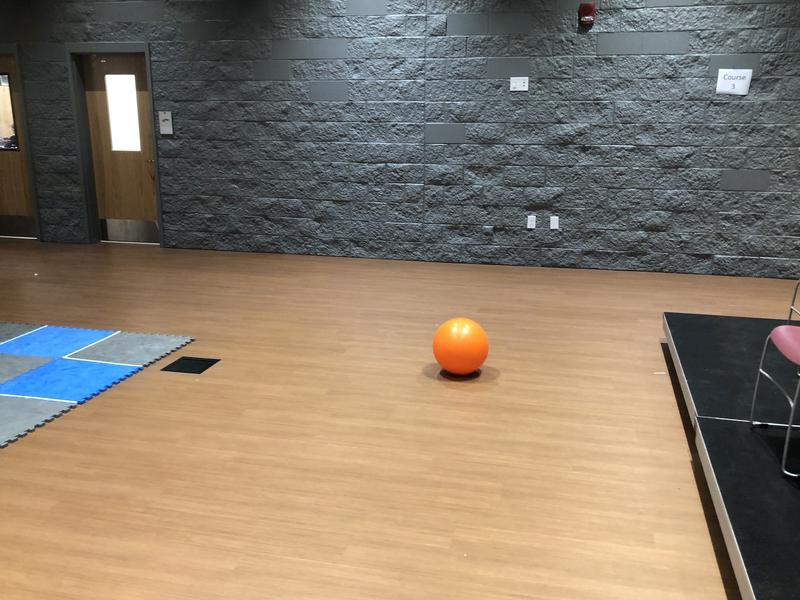ball: (430, 313, 493, 380)
